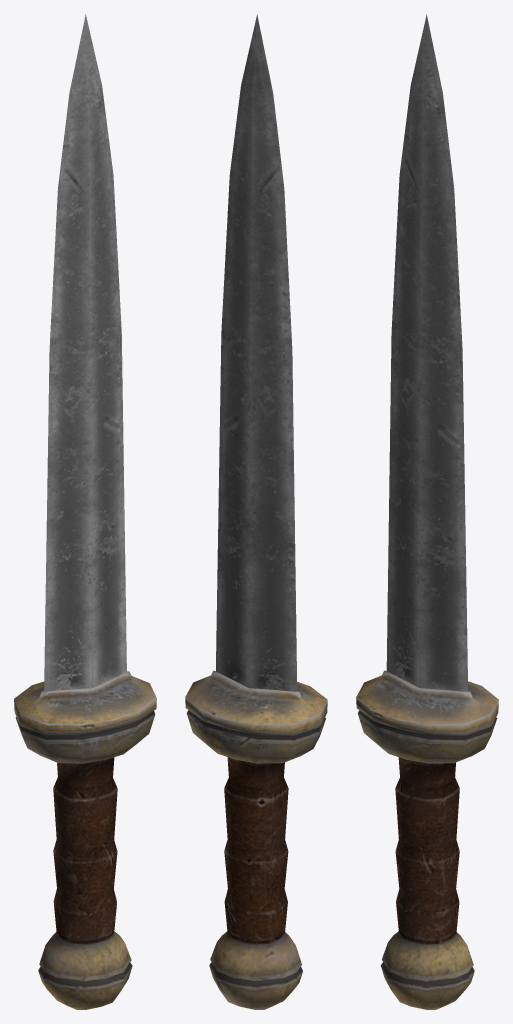
Rendered from SM_Knife.fbx.
The picture shows the model from 3 angles, left to right: view 1: azimuth 30°, elevation 25°; view 2: azimuth 150°, elevation 25°; view 3: azimuth 330°, elevation 25°; orthographic projection.
Visible parts, largest first — view 1: SK_Knife; view 2: SK_Knife; view 3: SK_Knife.
Boxes of the visible parts, x1,y1,x2,y2 form: SK_Knife: (14, 14, 156, 1009); SK_Knife: (185, 14, 327, 1009); SK_Knife: (356, 14, 498, 1009).
Bounding box in the file's own units: 8.41 × 61.37 × 6.44.
